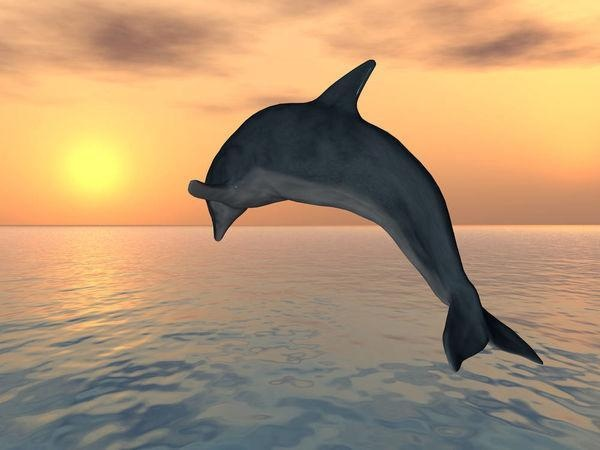fish: (187, 59, 548, 375)
